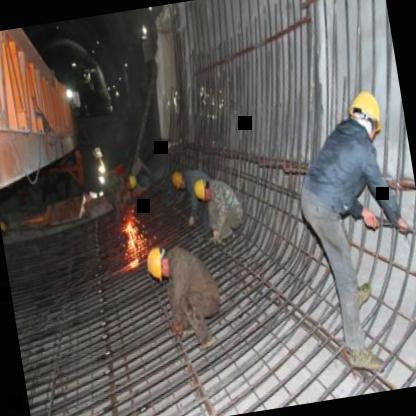helmet: (346, 83, 386, 140), (142, 240, 174, 284), (190, 172, 216, 205), (164, 165, 190, 196), (119, 170, 142, 194), (0, 214, 11, 239)
